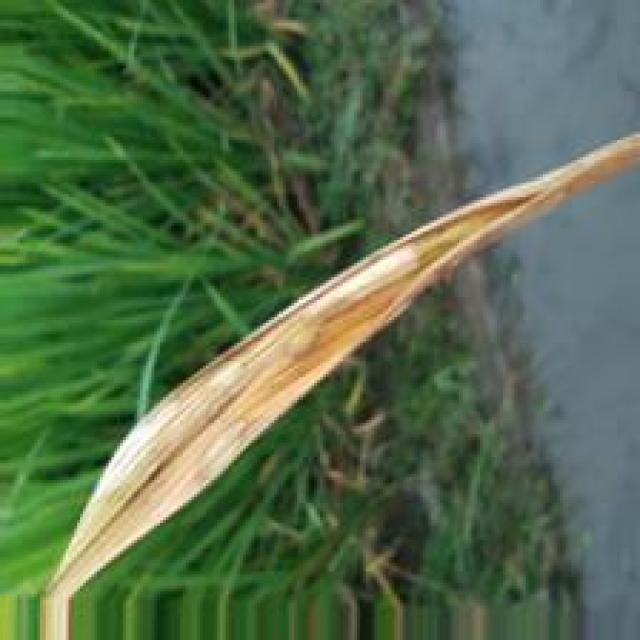Rice False Smut: (89, 235, 422, 526)
